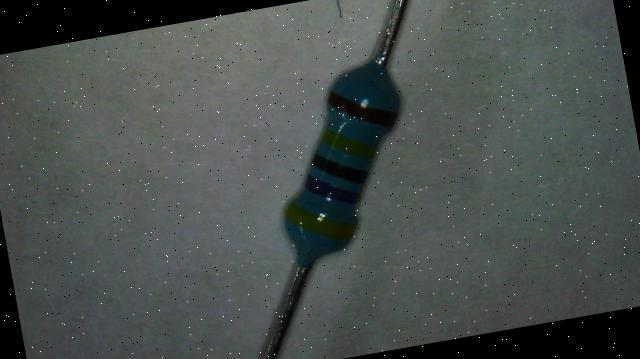black: (310, 144, 370, 191)
brown: (326, 80, 398, 136)
resistor: (230, 42, 452, 284)
violet: (303, 166, 362, 210)
yellow: (284, 192, 359, 249), (321, 119, 378, 166)
